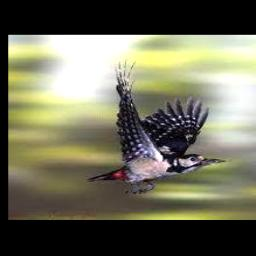Woodpecker: (87, 59, 226, 193)
